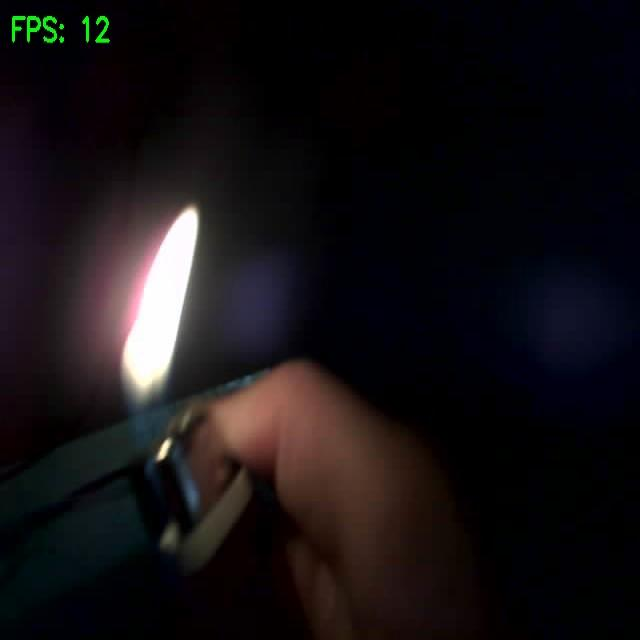fire: (122, 208, 197, 402)
